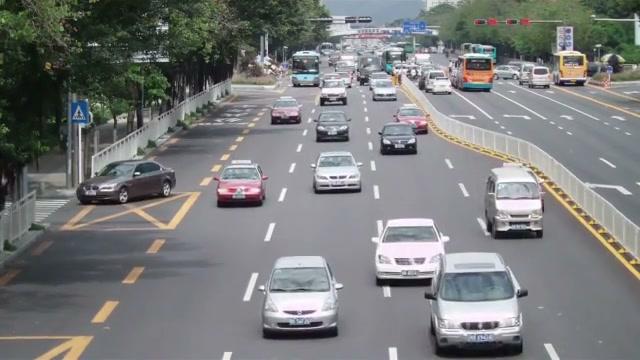bus: (451, 53, 495, 92), (291, 51, 320, 87)
car: (424, 252, 528, 356), (257, 255, 343, 339), (372, 217, 450, 286), (480, 164, 545, 240), (76, 159, 176, 205), (215, 163, 268, 208), (312, 151, 362, 194), (378, 122, 418, 155), (314, 111, 351, 143), (392, 105, 429, 134), (270, 97, 303, 124), (423, 70, 452, 95), (370, 77, 398, 101), (494, 65, 518, 80)
truck: (481, 164, 545, 240), (451, 53, 495, 92), (553, 51, 589, 86), (319, 73, 348, 106), (528, 66, 552, 89)
